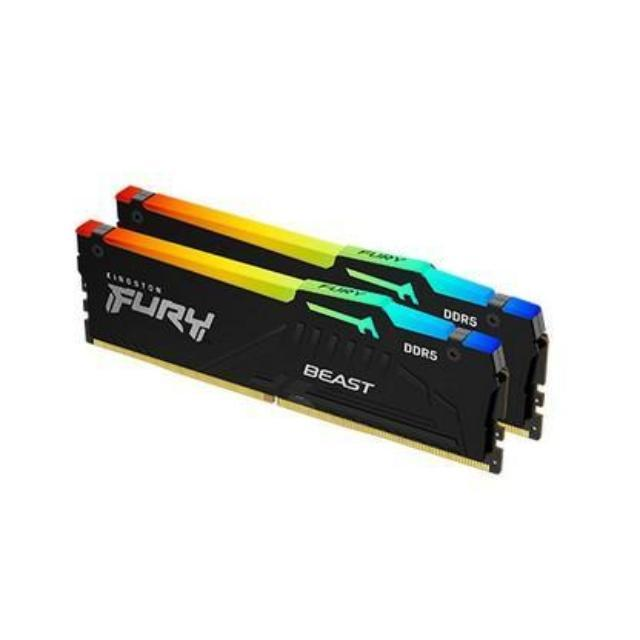RAM: (67, 171, 564, 477)
